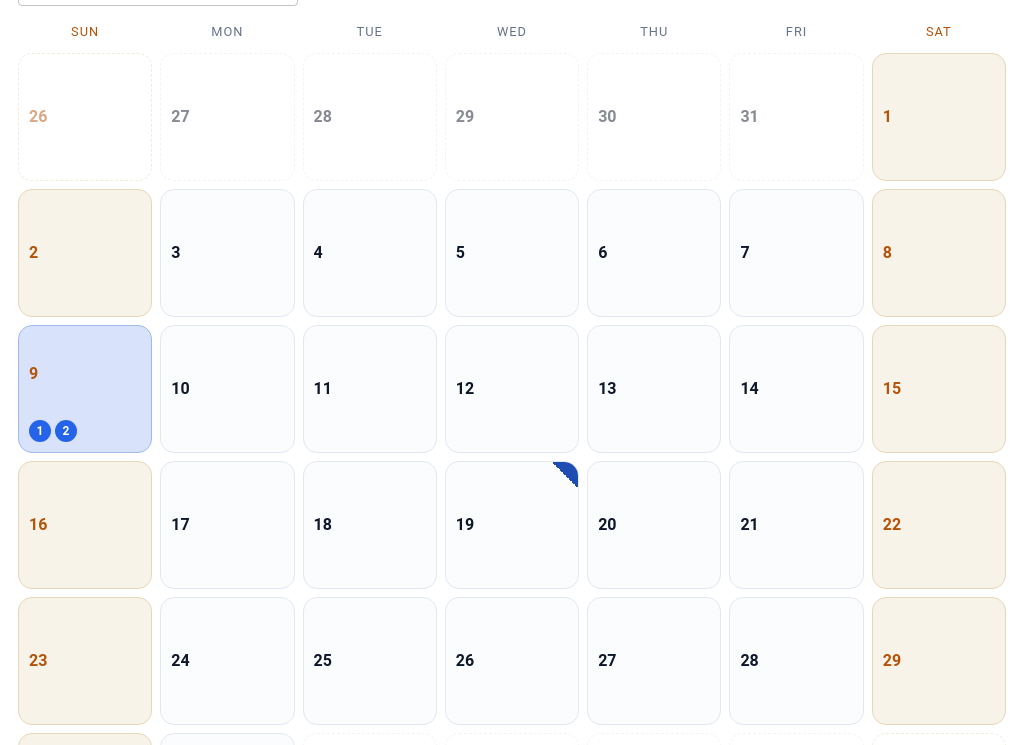
component-level coverage › opens a day on its earliest class when the date itself is clicked
(page scrolled)
Step 1. Click the button "9" → (85, 374), box [29,336,141,412]
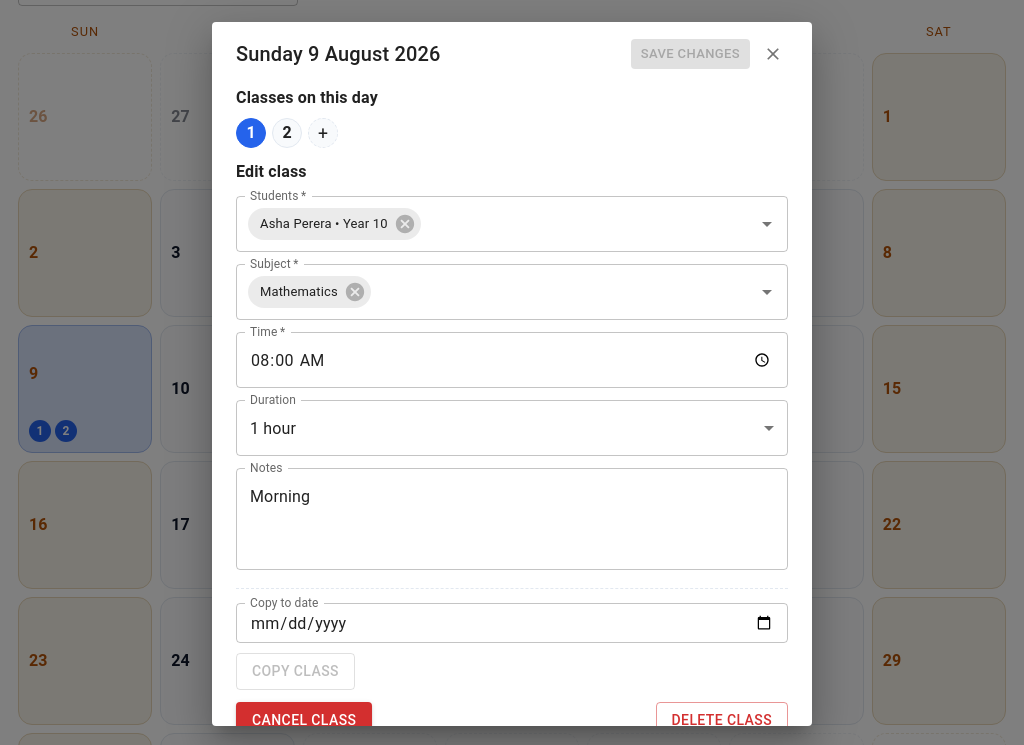
Check: the time field labelled "Time *" holds "08:00", box [236,332,788,388]
Check: the text box labelled "Notes" holds "Morning", box [250,484,774,554]
Note: A class booked without notes fills the notes field blank.
Step 2. Click the tab "2" → (287, 133), box [272,118,302,148]
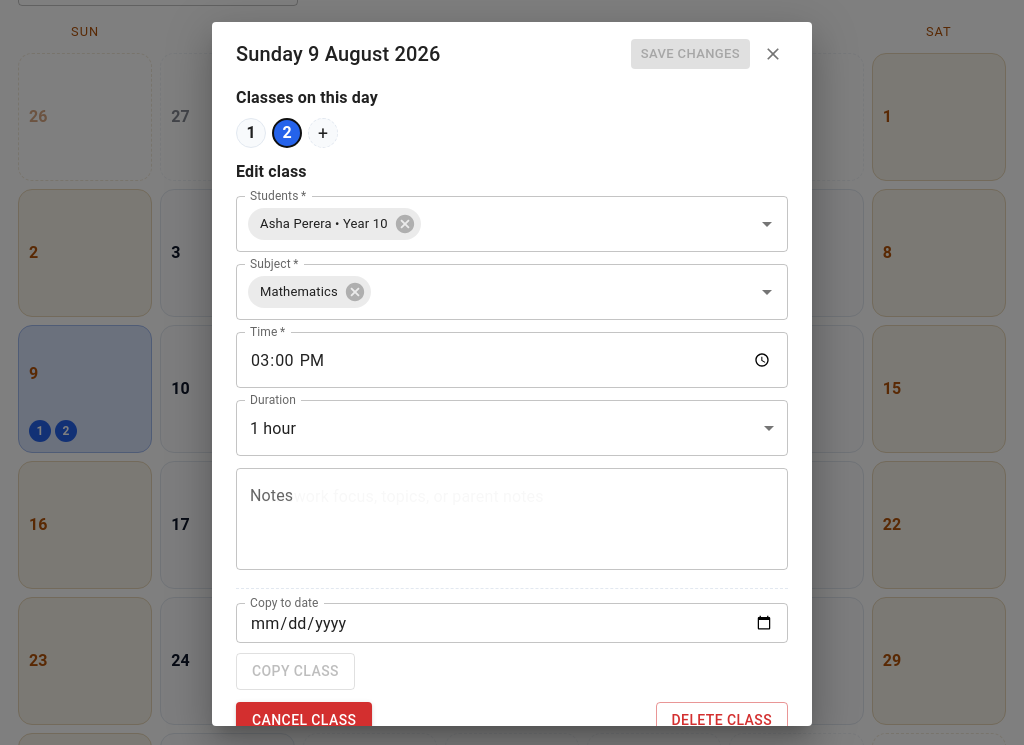
Check: the time field labelled "Time *" holds "15:00", box [236,332,788,388]
Check: the text box labelled "Notes" is empty, box [250,484,774,554]
